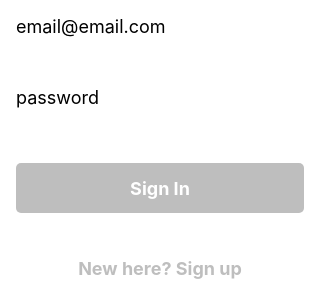
Test case: shows invalid credentials error message
Type "msadsd" into the field with test id "SignIn.Email" at [160, 26], box [16,16,304,37]
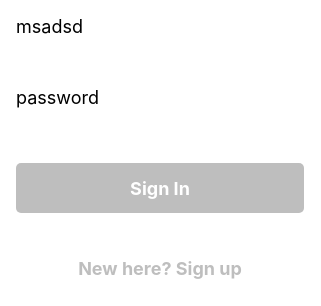
Type "asdasdas" into the password field with test id "SignIn.Password" at [160, 98], box [16,87,304,108]
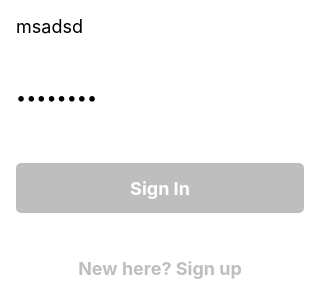
Click the element with test id "SignIn.Button" at [160, 188], box [16,163,304,213]
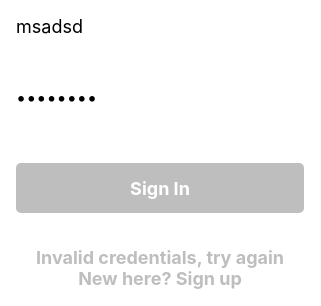
Expected: the text "Invalid credentials, try again" is shown once, [36,247,284,268]
